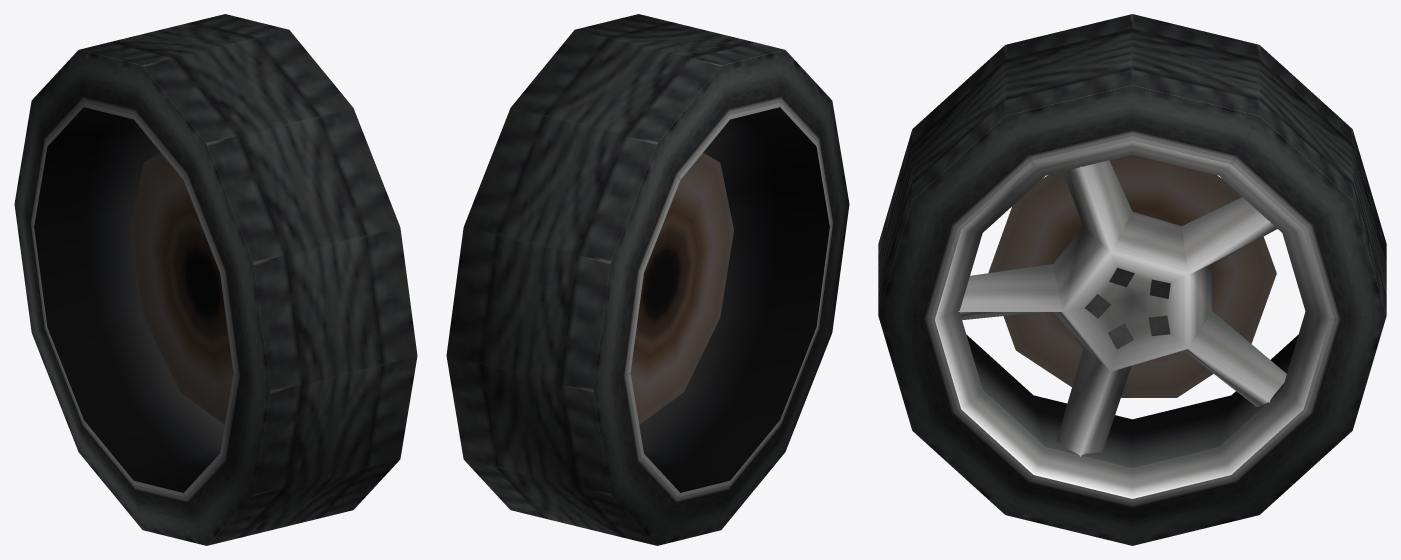
The model's file is DefaultWheel_club.glb.
3 renders of one model, left to right at view 1: azimuth 30°, elevation 25°; view 2: azimuth 150°, elevation 25°; view 3: azimuth 270°, elevation 25°, orthographic.
Parts seen in each view (by area): view 1: wheel; view 2: wheel; view 3: wheel.
Part boxes in pixels (x1=…): wheel: x1=14, y1=14, x2=417, y2=545; wheel: x1=446, y1=14, x2=849, y2=545; wheel: x1=878, y1=14, x2=1386, y2=545.
Size of the model in its own units: 0.2764 by 0.7459 by 0.7459.
2 materials, 2 textured.
